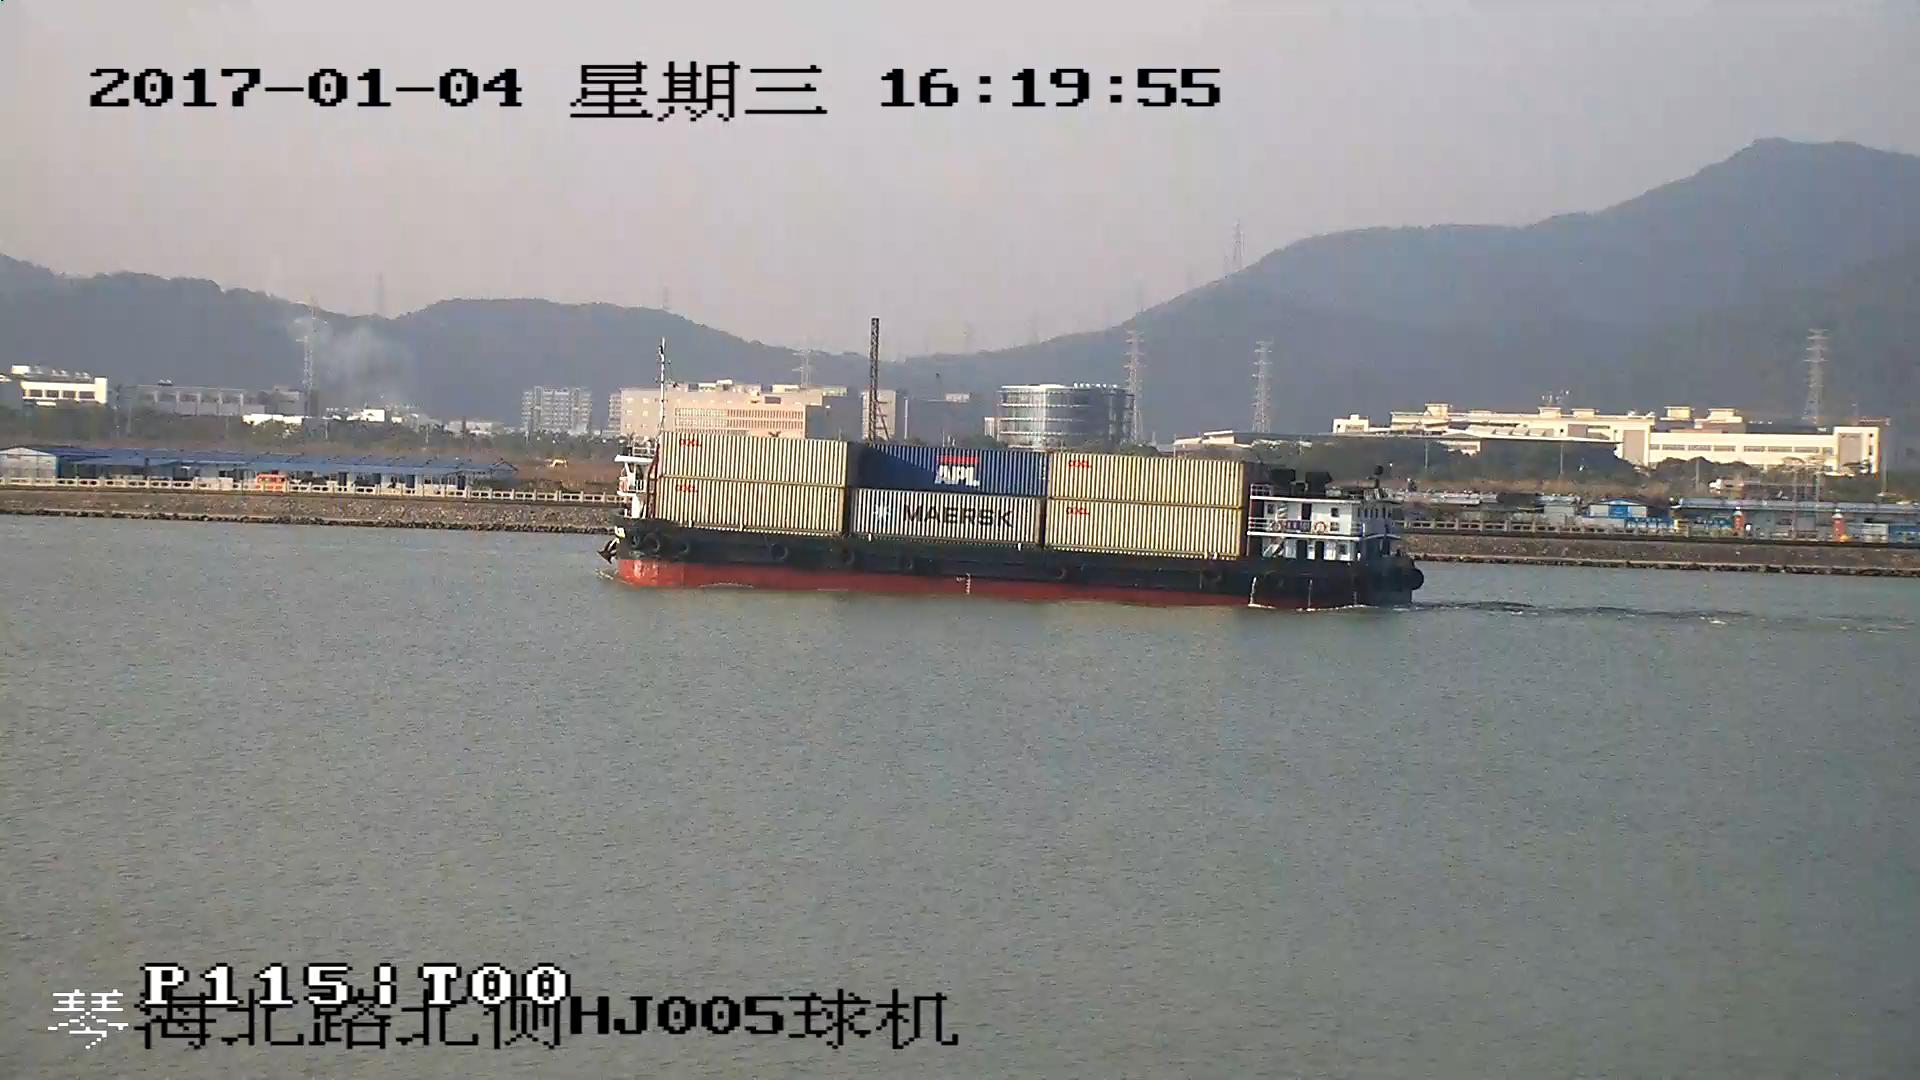container ship: (598, 426, 1426, 607)
